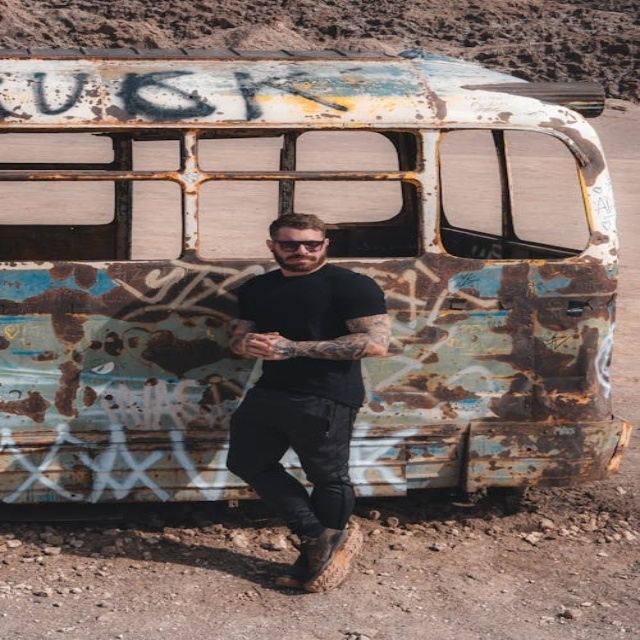Gafas: (266, 230, 332, 251)
Sin_guantes: (239, 326, 294, 363)
Sin_mascara: (280, 253, 321, 271)
